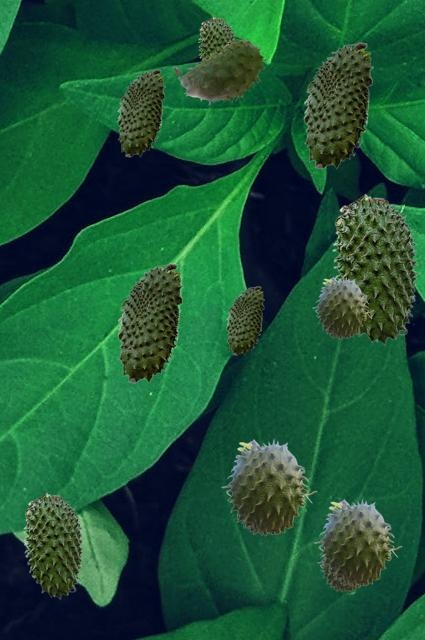guyabano: (332, 193, 418, 344), (221, 438, 316, 535), (303, 42, 372, 168), (117, 263, 182, 382), (314, 498, 401, 586), (23, 492, 83, 598), (173, 39, 264, 104), (117, 69, 164, 156), (312, 276, 373, 338), (226, 286, 263, 354), (198, 16, 236, 63), (317, 557, 360, 591)
